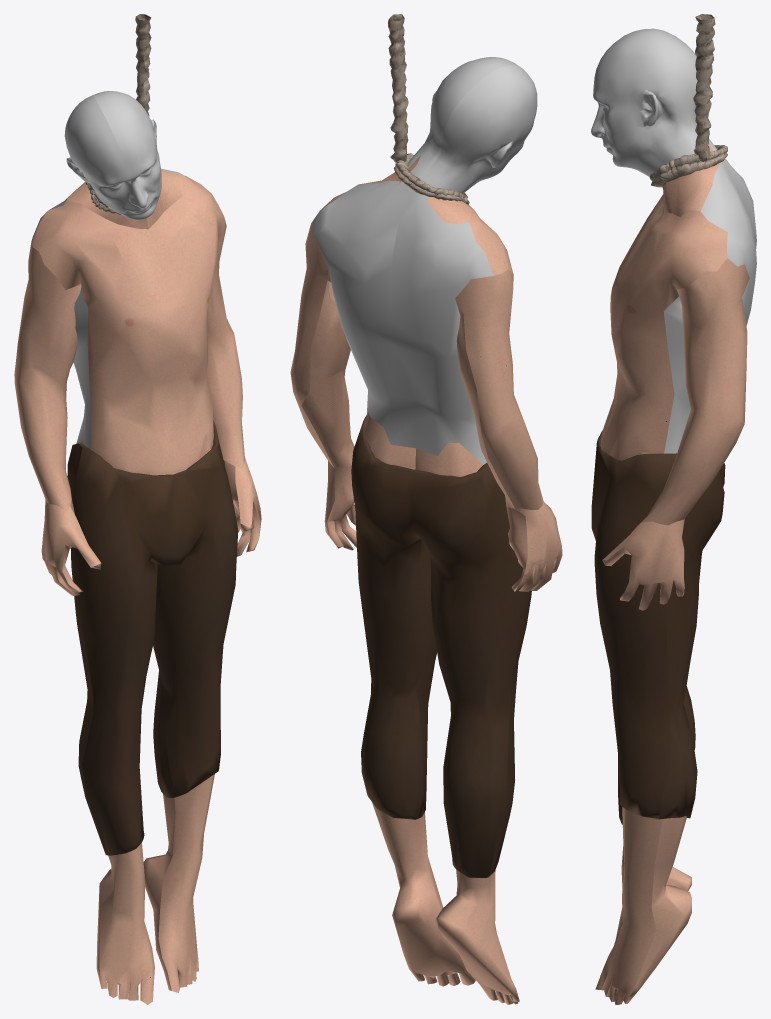
The model's file is deadbody.obj.
3 renders of one model, left to right at view 1: azimuth 30°, elevation 25°; view 2: azimuth 150°, elevation 25°; view 3: azimuth 270°, elevation 25°, orthographic. The views are drawn at different scales.
Visible parts, largest first — view 1: StaticMeshActor_519, StaticMeshActor_498, StaticMeshActor_501, StaticMeshActor_494, StaticMeshActor_500, StaticMeshActor_496, StaticMeshActor_503, StaticMeshActor_506, StaticMeshActor_502, StaticMeshActor_499, StaticMeshActor_497, StaticMeshActor_518 (+3 smaller); view 2: StaticMeshActor_519, StaticMeshActor_499, StaticMeshActor_494, StaticMeshActor_501, StaticMeshActor_503, StaticMeshActor_502, StaticMeshActor_495, StaticMeshActor_518, StaticMeshActor_506, StaticMeshActor_504, StaticMeshActor_498, StaticMeshActor_505 (+2 smaller); view 3: StaticMeshActor_519, StaticMeshActor_498, StaticMeshActor_503, StaticMeshActor_494, StaticMeshActor_499, StaticMeshActor_500, StaticMeshActor_507, StaticMeshActor_502, StaticMeshActor_518, StaticMeshActor_497, StaticMeshActor_495.
Boxes of the visible parts, x1=… form: StaticMeshActor_519: x1=67, y1=420, x2=238, y2=855; StaticMeshActor_498: x1=31, y1=176, x2=224, y2=475; StaticMeshActor_501: x1=14, y1=243, x2=81, y2=511; StaticMeshActor_494: x1=64, y1=91, x2=161, y2=220; StaticMeshActor_500: x1=158, y1=433, x2=214, y2=992; StaticMeshActor_496: x1=99, y1=842, x2=154, y2=1004; StaticMeshActor_503: x1=206, y1=217, x2=244, y2=469; StaticMeshActor_506: x1=41, y1=499, x2=100, y2=595; StaticMeshActor_502: x1=143, y1=793, x2=179, y2=990; StaticMeshActor_499: x1=31, y1=168, x2=186, y2=448; StaticMeshActor_497: x1=67, y1=169, x2=183, y2=229; StaticMeshActor_518: x1=85, y1=14, x2=151, y2=214; StaticMeshActor_519: x1=351, y1=415, x2=531, y2=877; StaticMeshActor_499: x1=312, y1=180, x2=493, y2=464; StaticMeshActor_494: x1=407, y1=57, x2=537, y2=193; StaticMeshActor_501: x1=455, y1=269, x2=543, y2=509; StaticMeshActor_503: x1=290, y1=219, x2=354, y2=468; StaticMeshActor_502: x1=364, y1=412, x2=475, y2=986; StaticMeshActor_495: x1=415, y1=442, x2=519, y2=1004; StaticMeshActor_518: x1=388, y1=14, x2=469, y2=204; StaticMeshActor_506: x1=515, y1=501, x2=562, y2=591; StaticMeshActor_504: x1=327, y1=465, x2=356, y2=550; StaticMeshActor_498: x1=321, y1=192, x2=513, y2=275; StaticMeshActor_505: x1=506, y1=506, x2=556, y2=591; StaticMeshActor_519: x1=591, y1=430, x2=725, y2=824; StaticMeshActor_498: x1=600, y1=194, x2=727, y2=460; StaticMeshActor_503: x1=642, y1=258, x2=749, y2=525; StaticMeshActor_494: x1=591, y1=28, x2=717, y2=176; StaticMeshActor_499: x1=663, y1=159, x2=756, y2=453; StaticMeshActor_500: x1=595, y1=437, x2=662, y2=1004; StaticMeshActor_507: x1=603, y1=518, x2=684, y2=610; StaticMeshActor_502: x1=601, y1=450, x2=691, y2=1004; StaticMeshActor_518: x1=649, y1=14, x2=727, y2=187; StaticMeshActor_497: x1=662, y1=143, x2=729, y2=216; StaticMeshActor_495: x1=666, y1=867, x2=691, y2=890.
Size of what is drawn, in the model's own units: 3.68 by 15.29 by 2.32.
